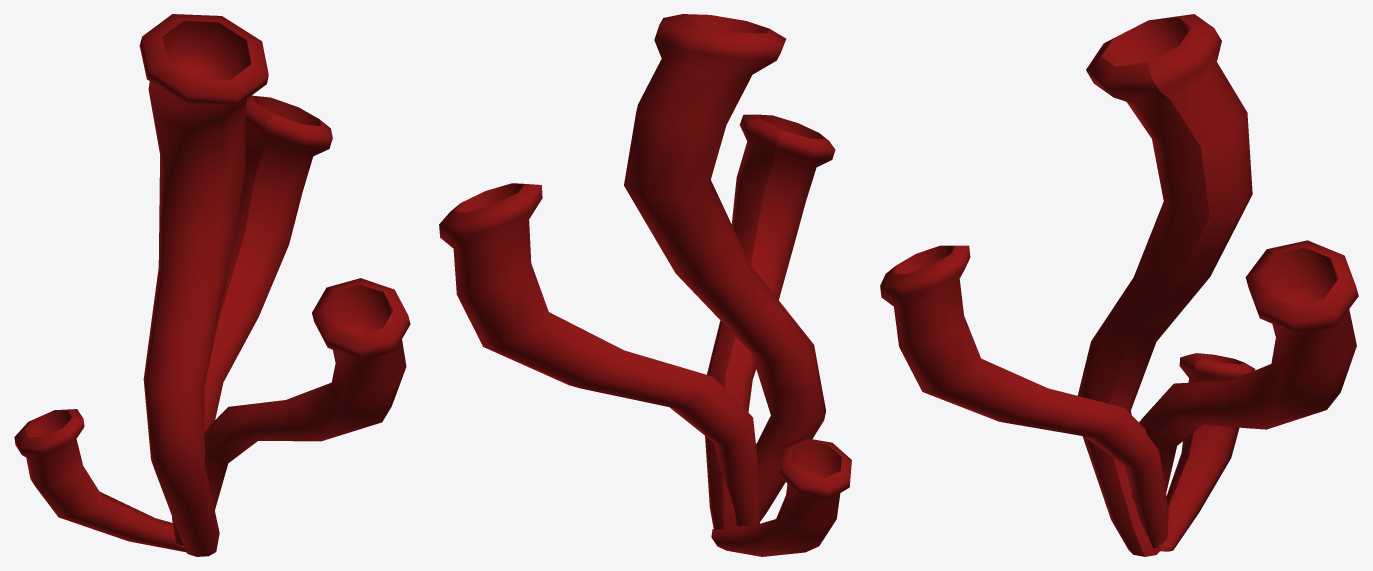
Rendered from new_kelp_game.obj.
3 views of the same model, side by side, from view 1: azimuth 30°, elevation 25°; view 2: azimuth 150°, elevation 25°; view 3: azimuth 270°, elevation 25° (orthographic). The views are drawn at different scales.
Parts seen in each view (by area): view 1: node_id61; view 2: node_id61; view 3: node_id61.
Part boxes in pixels (<box>): node_id61: <box>14,14,410,556</box>; node_id61: <box>439,14,851,556</box>; node_id61: <box>880,14,1358,556</box>.
Bounding box in the file's own units: 2 × 2.82 × 2.31.
